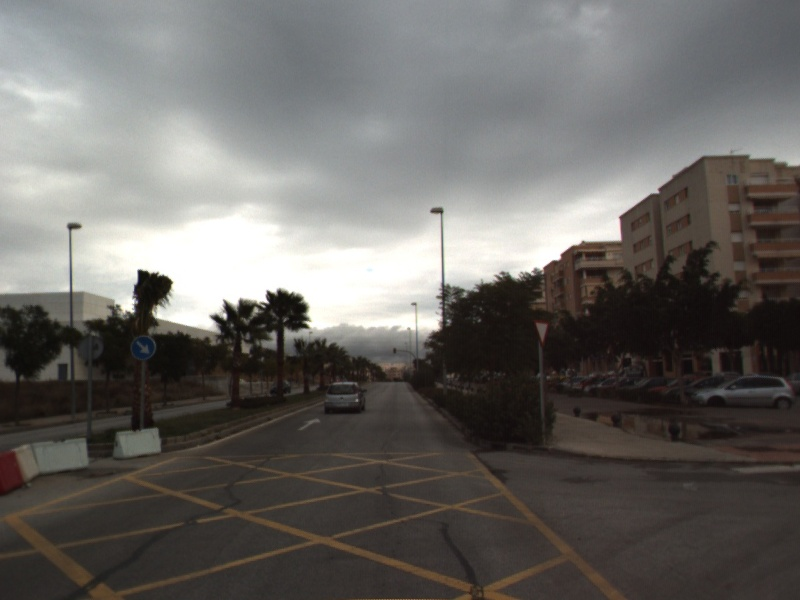STRAIGHT: (296, 416, 323, 432)
